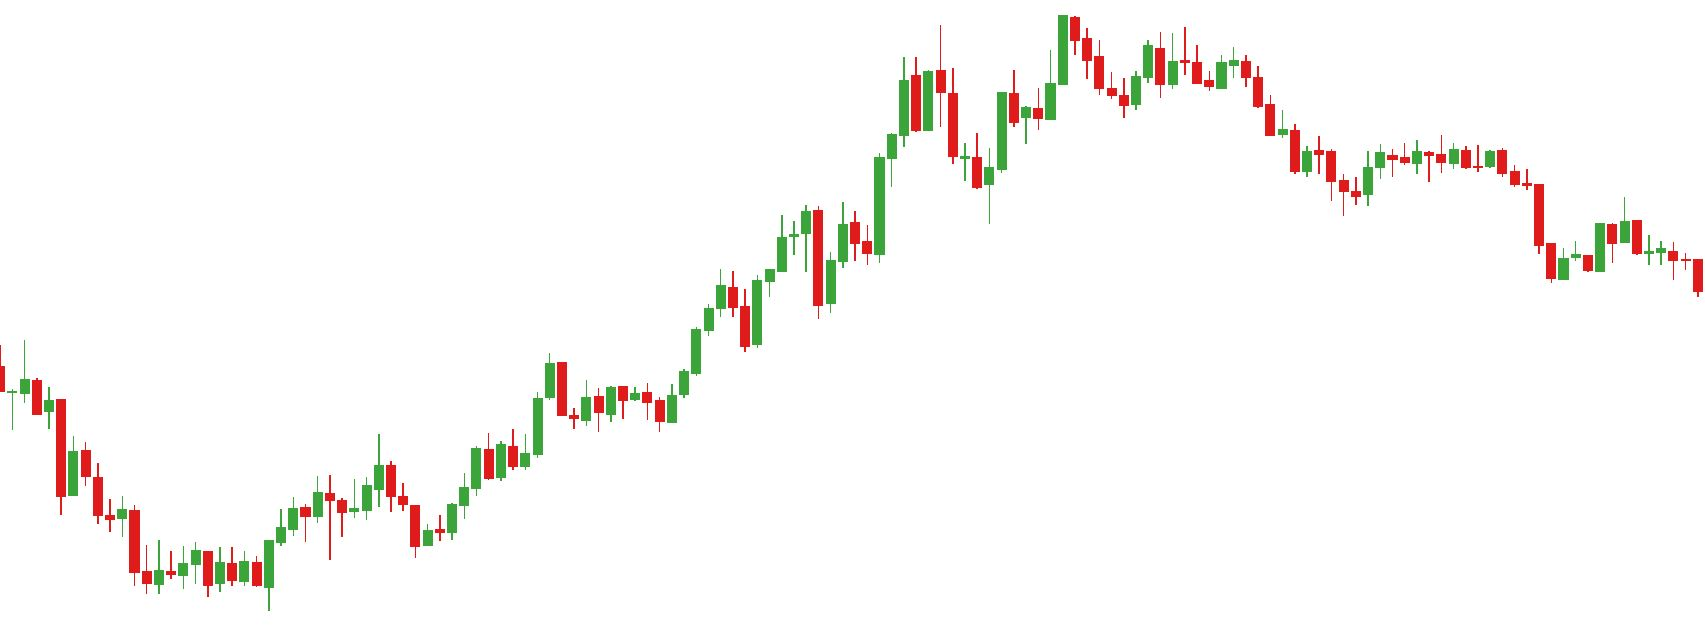buy: (337, 464, 435, 556)
sell: (935, 9, 1082, 136)
